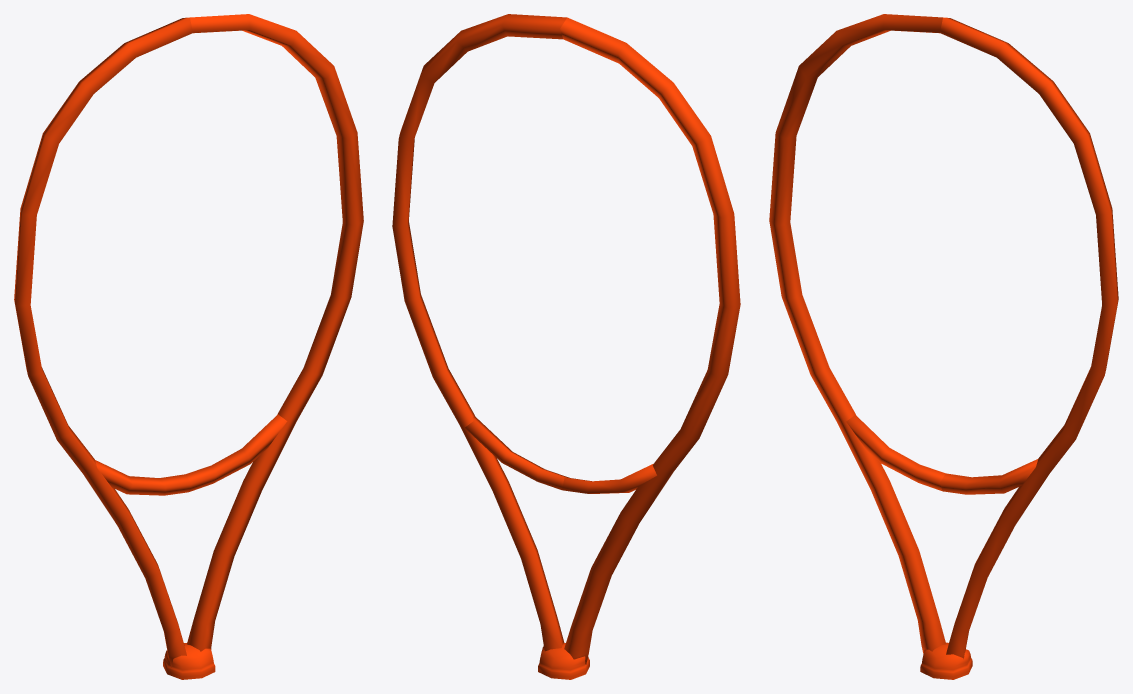
The model's file is MeshCube_1755_0_GeomSubset_1.obj.
3 views of the same model, side by side, from view 1: azimuth 30°, elevation 25°; view 2: azimuth 150°, elevation 25°; view 3: azimuth 330°, elevation 25° (orthographic).
Parts seen in each view (by area): view 1: MeshCube_1755_0_GeomSubset_1; view 2: MeshCube_1755_0_GeomSubset_1; view 3: MeshCube_1755_0_GeomSubset_1.
Part boxes in pixels (box(x1,y1,x2,y2)): MeshCube_1755_0_GeomSubset_1: box(14, 14, 363, 679); MeshCube_1755_0_GeomSubset_1: box(392, 14, 740, 679); MeshCube_1755_0_GeomSubset_1: box(769, 14, 1118, 679).
Bounding box in the file's own units: 0.2615 × 0.4688 × 0.0333.
